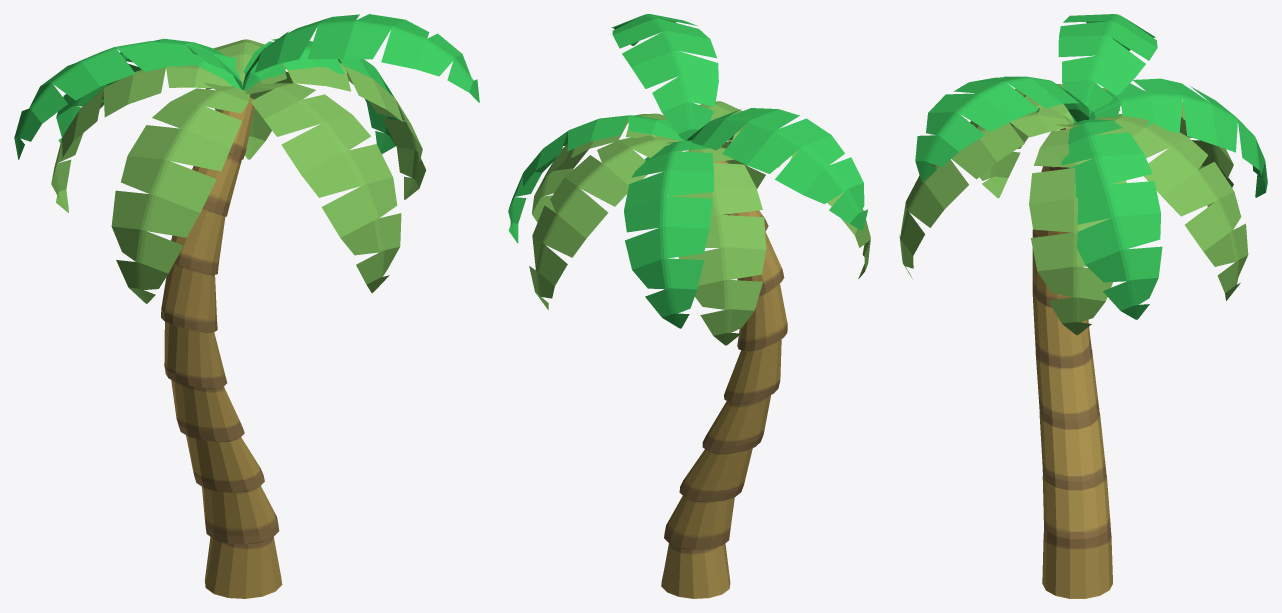
File: PalmTree.fbx
3 views of the same model, side by side, from view 1: azimuth 30°, elevation 25°; view 2: azimuth 150°, elevation 25°; view 3: azimuth 270°, elevation 25° (orthographic). The views are drawn at different scales.
Parts seen in each view (by area): view 1: Cylinder, Sphere.003, Sphere.002, Sphere.001, Sphere.010, Sphere.005, Sphere.004, Sphere.007, Sphere.008, Sphere.006; view 2: Cylinder, Sphere.008, Sphere.010, Sphere.005, Sphere.006, Sphere.001, Sphere.007, Sphere.004, Sphere.002, Sphere.003; view 3: Cylinder, Sphere.007, Sphere.006, Sphere.004, Sphere.001, Sphere.010, Sphere.008, Sphere.002, Sphere.003, Sphere.005.
Boxes of the visible parts, box(x1,y1,x2,y2) form: Cylinder: box(161, 98, 282, 598); Sphere.003: box(111, 82, 250, 303); Sphere.002: box(245, 83, 401, 292); Sphere.001: box(243, 14, 479, 102); Sphere.010: box(14, 41, 243, 159); Sphere.005: box(51, 65, 231, 212); Sphere.004: box(246, 63, 425, 199); Sphere.007: box(243, 38, 403, 153); Sphere.008: box(56, 38, 240, 157); Sphere.006: box(206, 39, 292, 159); Cylinder: box(661, 150, 787, 598); Sphere.008: box(624, 140, 713, 328); Sphere.010: box(687, 108, 867, 231); Sphere.005: box(669, 147, 766, 345); Sphere.006: box(529, 135, 682, 309); Sphere.001: box(611, 14, 718, 140); Sphere.007: box(508, 115, 684, 243); Sphere.004: box(532, 113, 666, 222); Sphere.002: box(699, 101, 765, 188); Sphere.003: box(731, 124, 870, 278); Cylinder: box(1032, 127, 1112, 598); Sphere.007: box(1052, 119, 1162, 319); Sphere.006: box(1094, 114, 1248, 300); Sphere.004: box(1029, 123, 1126, 335); Sphere.001: box(915, 76, 1089, 182); Sphere.010: box(1058, 14, 1157, 122); Sphere.008: box(1088, 78, 1267, 197); Sphere.002: box(899, 106, 1074, 278); Sphere.003: box(970, 84, 1073, 198); Sphere.005: box(1102, 88, 1233, 206).
Size of the model in its own units: 493 by 705 by 440.
Materials: 3 (1 with a texture image).
